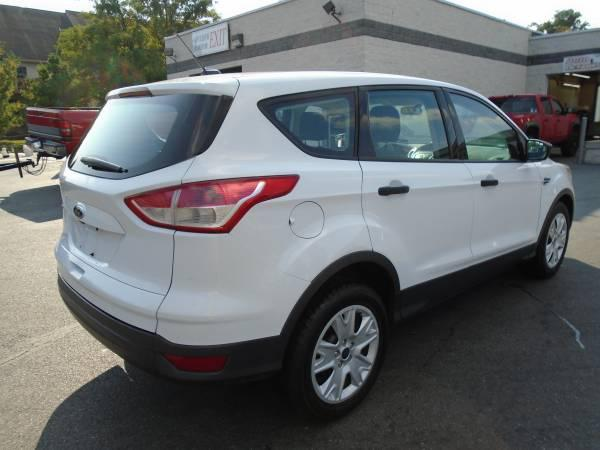Front_Fender: (539, 163, 575, 234)
Front_Right_Door: (470, 164, 543, 262)
Front_Right_Window: (447, 90, 540, 164)
Rear_Bumper: (52, 228, 314, 374)
Rear_Fender: (182, 86, 372, 284)
Rear_Right_Door: (362, 159, 474, 288)
Rear_Right_Window: (359, 87, 465, 165)
Rear_Windshield: (68, 92, 231, 180)
Right_Taillight: (126, 175, 300, 235)
Roof: (109, 70, 546, 160)
Tailgate: (59, 155, 194, 294)
Wheel: (288, 279, 391, 418), (540, 207, 572, 275)
